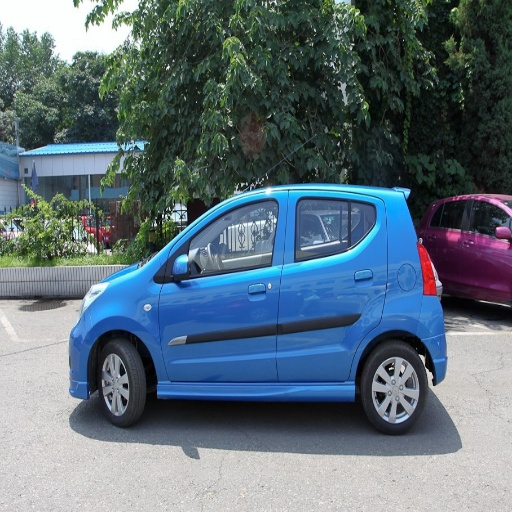back_left_door: (278, 193, 381, 381)
front_left_door: (160, 197, 283, 380)
